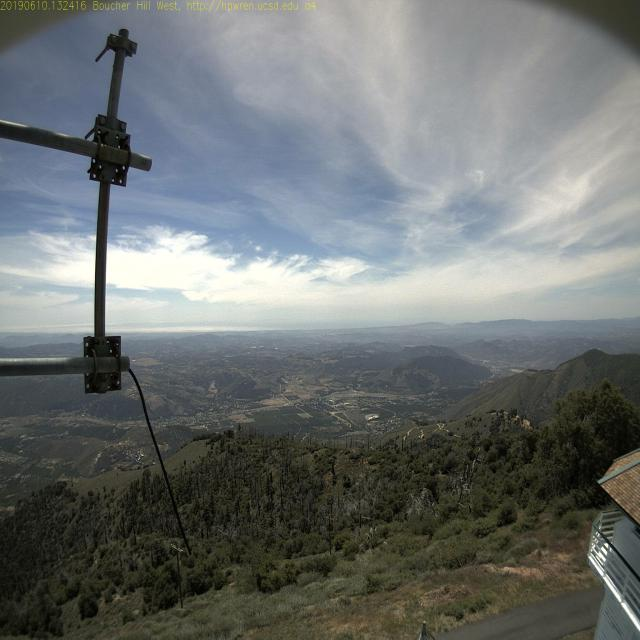smoke: (177, 404, 197, 423)
